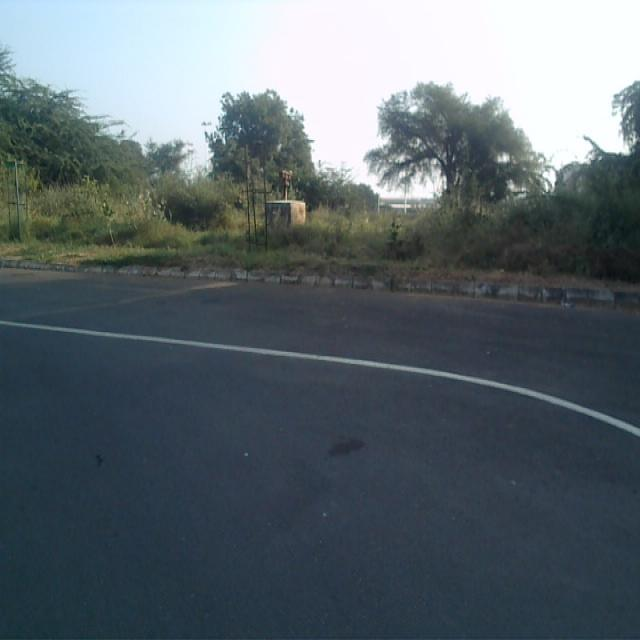lane: (3, 326, 640, 640)
